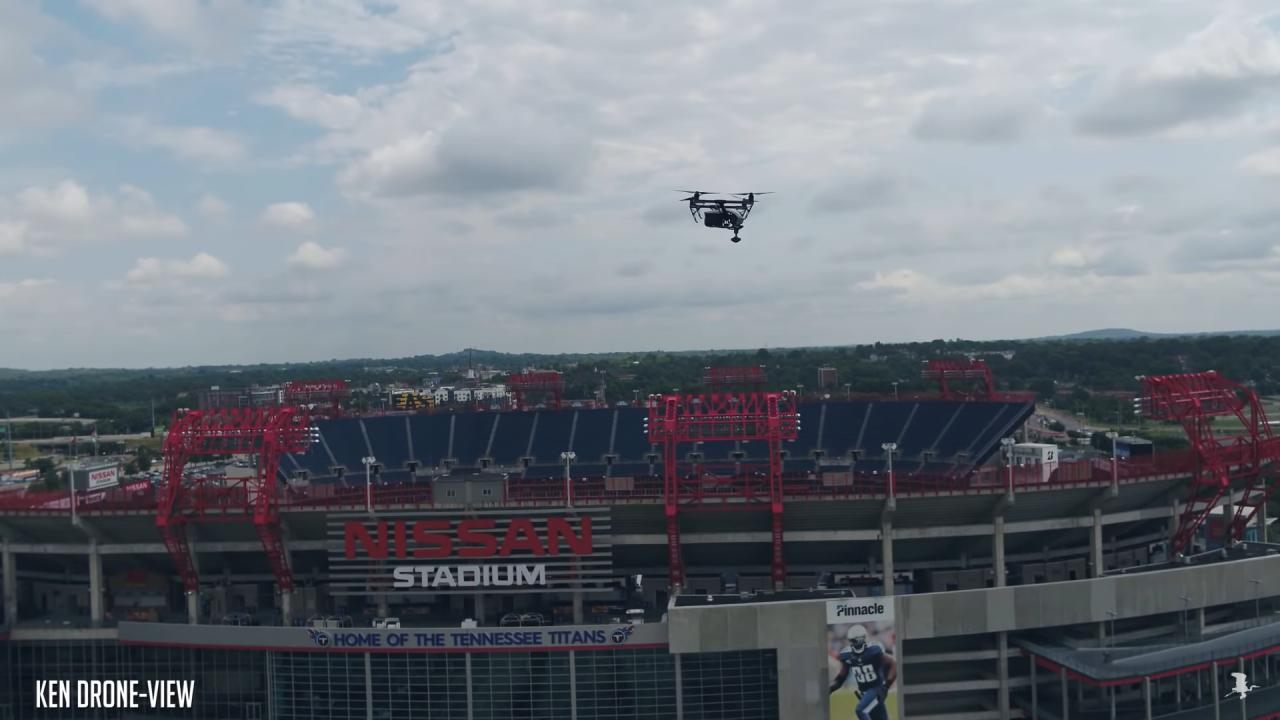Drone: (664, 176, 782, 254)
